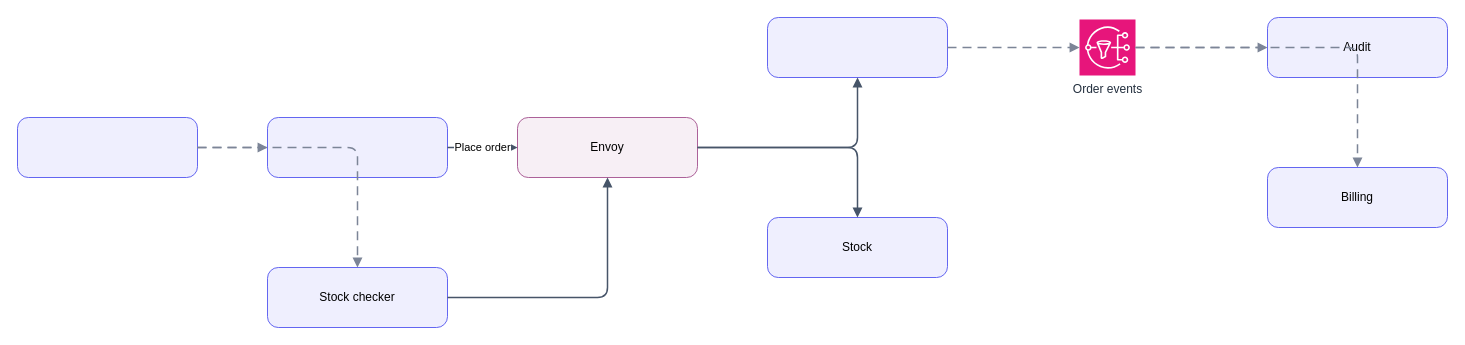
Image size: 1465x345. Some labels were removed from this diagram. The box of each missing label's shape, as (x1, y1, x2, y2) in pixels:
BFF: (266, 116, 448, 178)
Orders: (766, 16, 948, 78)
Web: (16, 116, 198, 178)
